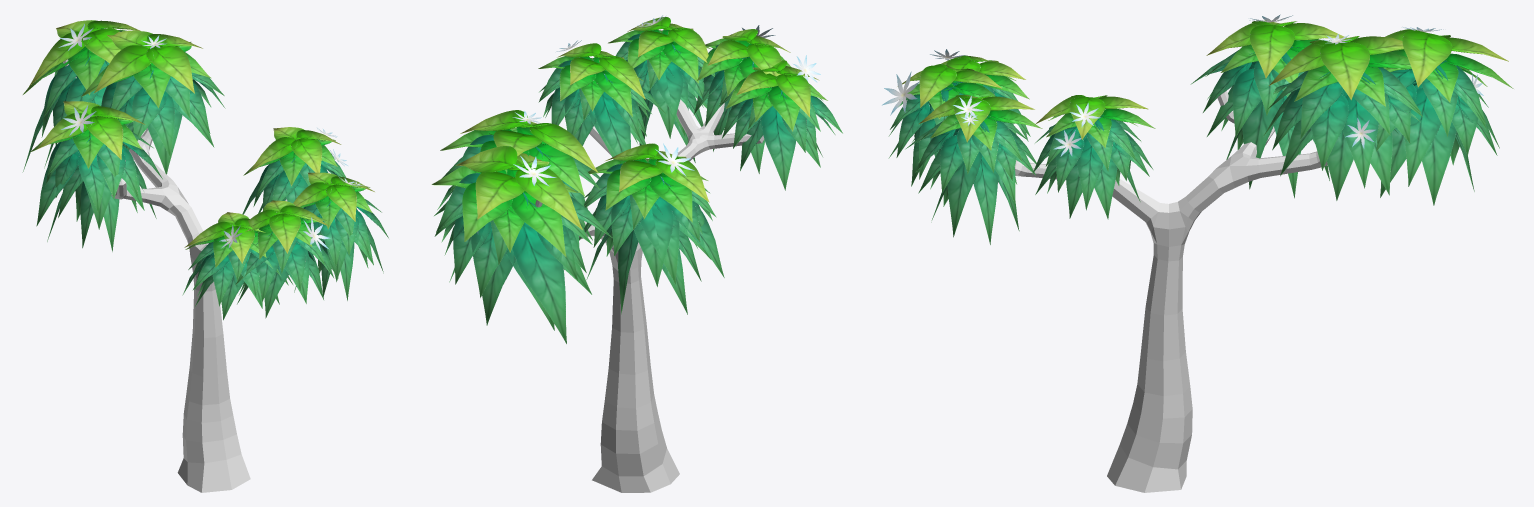
The model's file is tree8.fbx.
3 renders of one model, left to right at view 1: azimuth 30°, elevation 25°; view 2: azimuth 150°, elevation 25°; view 3: azimuth 270°, elevation 25°, orthographic. The views are drawn at different scales.
Parts seen in each view (by area): view 1: Leaves, Branch, Flowers; view 2: Leaves, Branch, Flowers; view 3: Leaves, Branch, Flowers.
Boxes of the visible parts, x1,y1,x2,y2 form: Leaves: (22, 20, 388, 320); Branch: (63, 59, 287, 492); Flowers: (58, 24, 363, 251); Leaves: (431, 17, 842, 343); Branch: (535, 99, 764, 492); Flowers: (477, 15, 820, 234); Leaves: (888, 20, 1513, 244); Branch: (1015, 90, 1327, 492); Flowers: (882, 14, 1483, 156).
Size of the model in its own units: 404 by 584 by 751.
